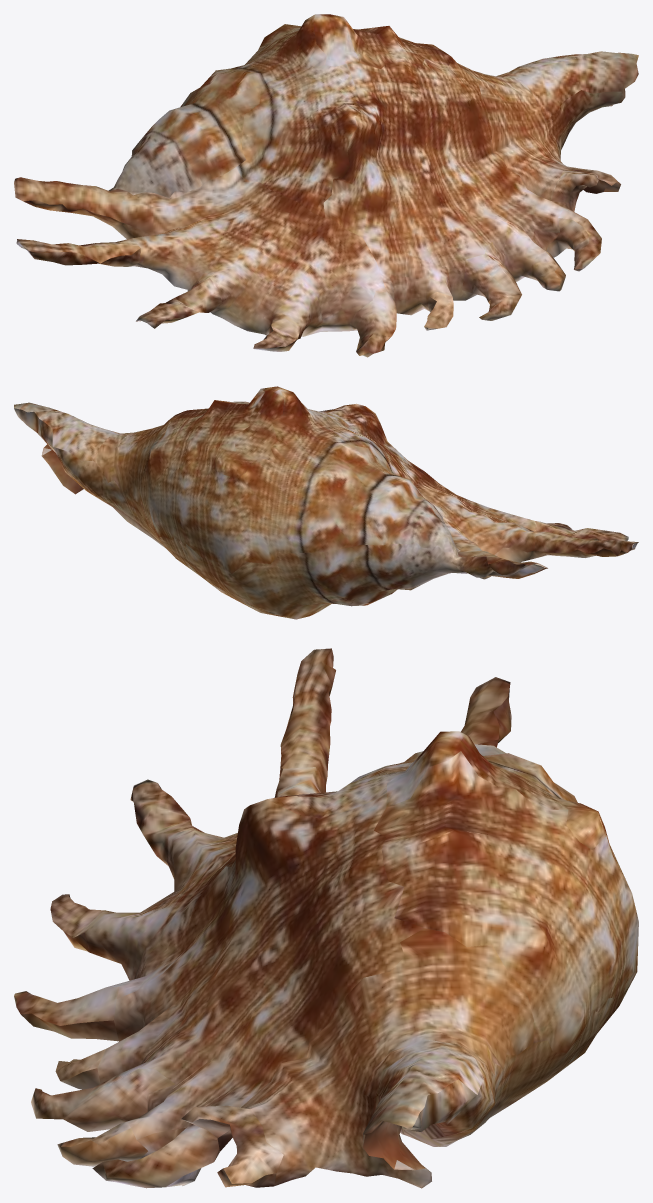
File: shell.glb
3 renders of one model, top to bottom at view 1: azimuth 30°, elevation 25°; view 2: azimuth 150°, elevation 25°; view 3: azimuth 270°, elevation 25°, orthographic. The views are drawn at different scales.
Visible parts, largest first — view 1: shell; view 2: shell; view 3: shell.
Part boxes in pixels (x1=…): shell: x1=14, y1=14, x2=638, y2=357; shell: x1=14, y1=386, x2=638, y2=619; shell: x1=14, y1=648, x2=638, y2=1188.
Size of the model in its own units: 0.1392 by 0.0463 by 0.0743.
Materials: 1 (1 with a texture image).
